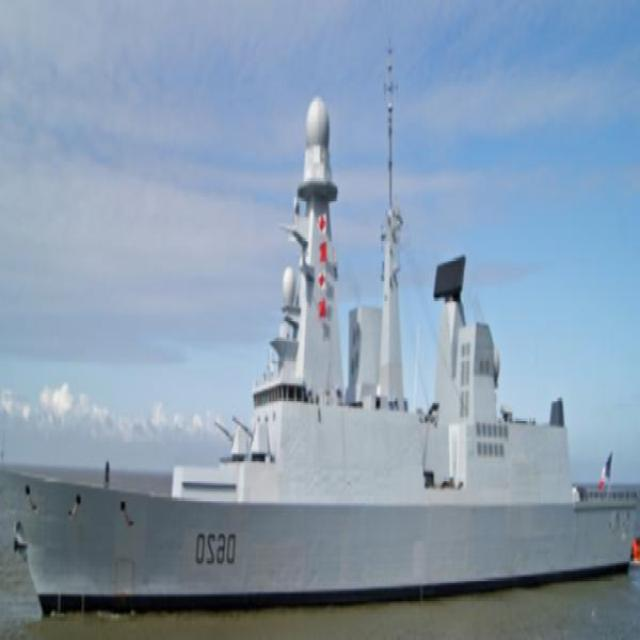Military: (14, 59, 629, 614)
